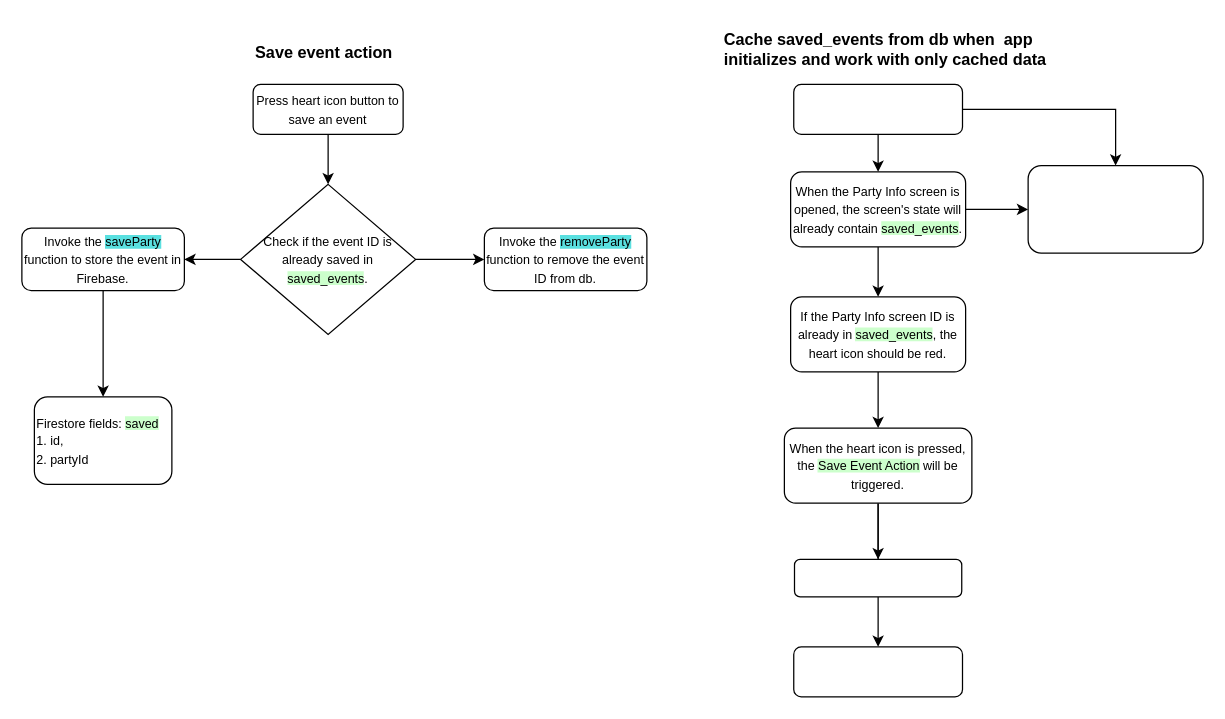
Image size: 1225x719. Some labels were removed from this diagram. Each missing label, with the centre of its shape:
Also, update the local cached saved_events globally.: (877,671)
Cache the saved_events from db when app initializes: (877,108)
Firestore fields: saved_events 1. id, 2. partyId: (1115,208)
Update the saved_events in database .: (877,577)
